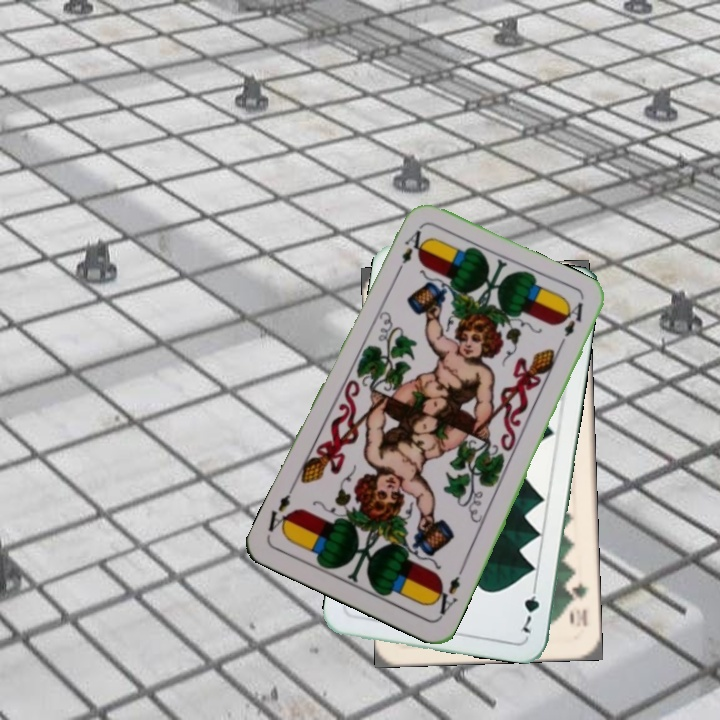EA: (429, 564, 466, 620), (397, 223, 424, 266)
G10: (565, 579, 590, 629)
G7: (515, 579, 542, 636)
